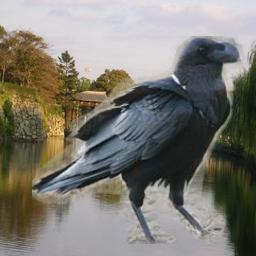Crow: (32, 36, 245, 244)
